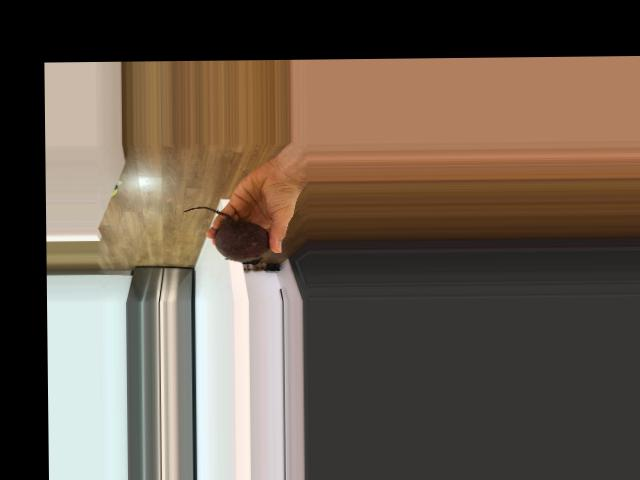beet: (182, 205, 269, 265)
